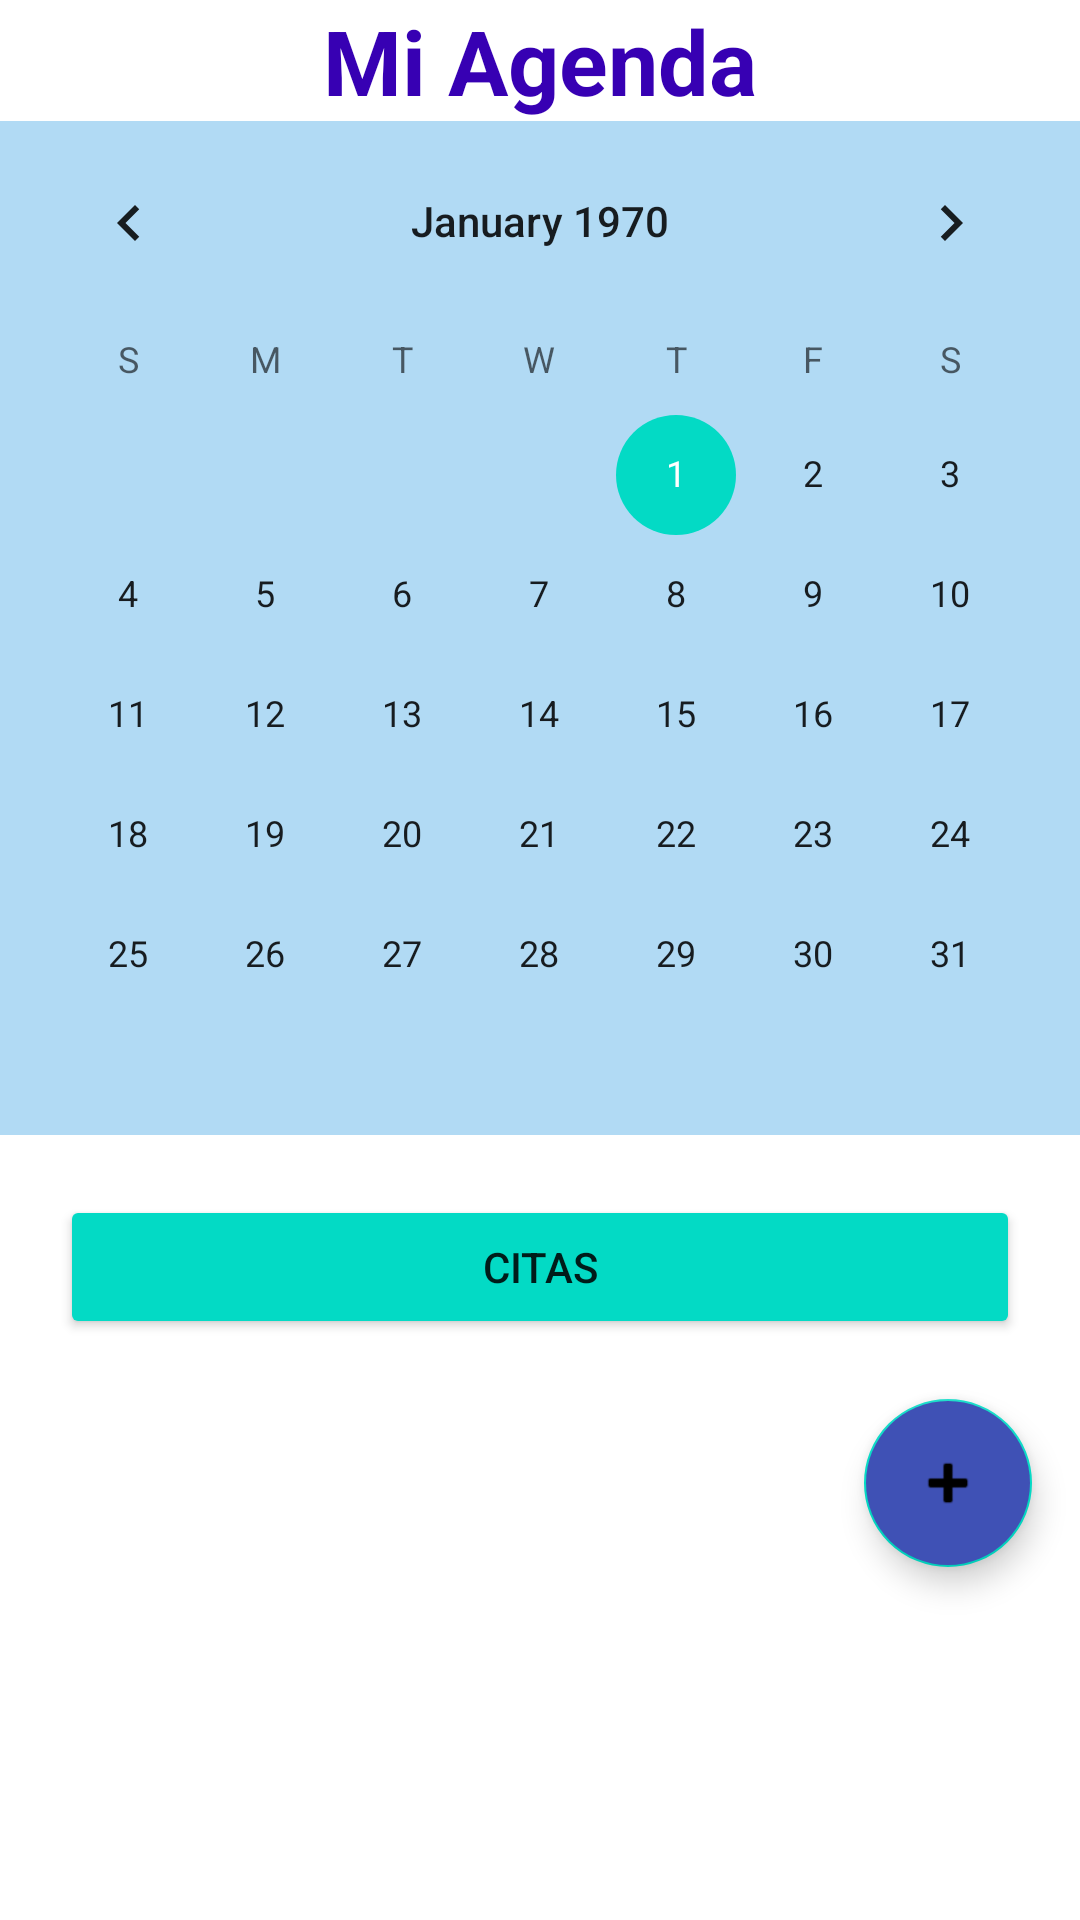

Icon bounding boxes for this 1080px×1920px phone screenshot, format [left=x1, top=y1, right=x2, bottom=y2]:
add: [left=864, top=1399, right=1032, bottom=1567]
